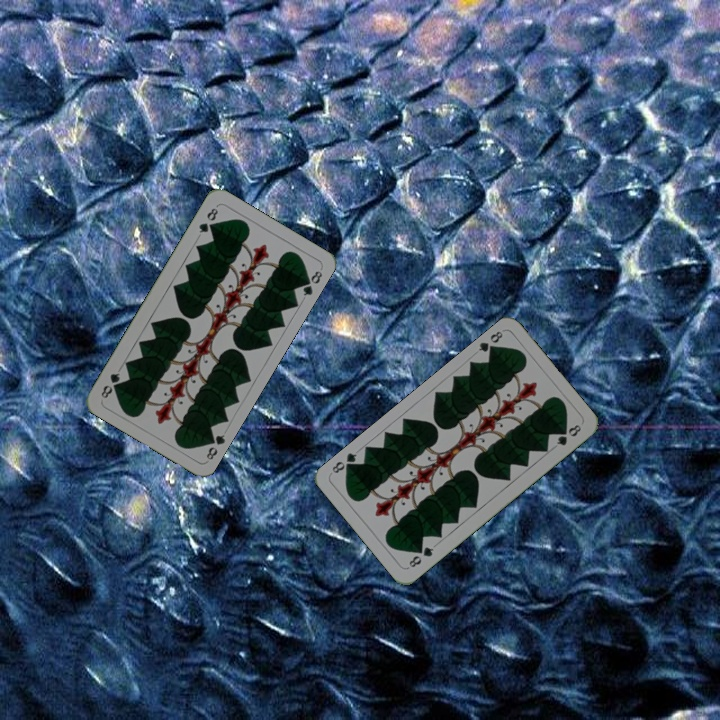G8: (474, 327, 505, 357), (195, 202, 221, 236), (405, 542, 436, 570), (202, 430, 227, 463)
